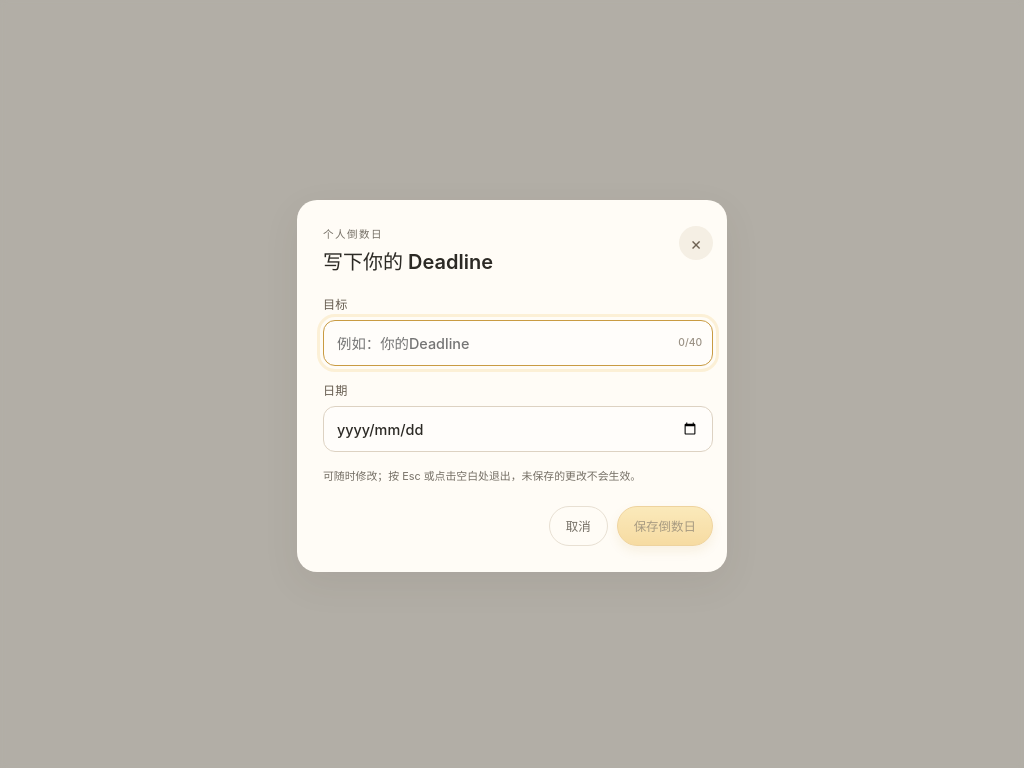
Test: DeadlineEditorModal › retains values when server-confirmed saving fails
The width and height of the screenshot is (1024, 768).
Type "法考" into the field labelled "目标 0/40" at [518, 343], box [323,320,713,366]
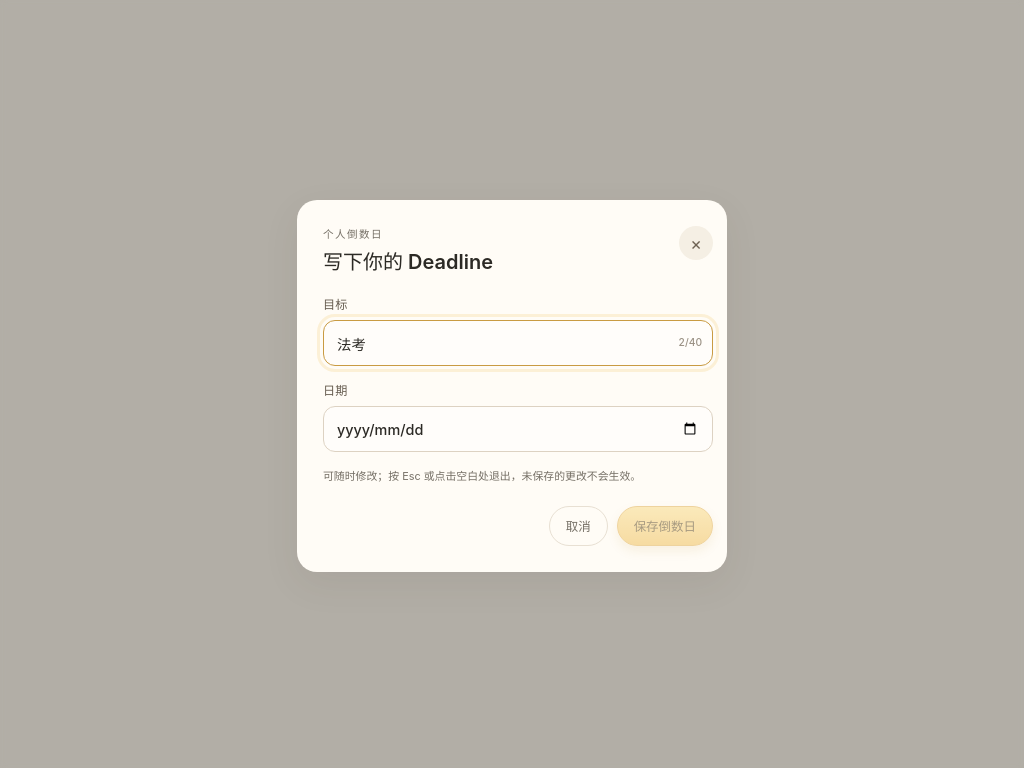
Type "2099-08-16" into the date field labelled "日期" at [518, 429], box [323,406,713,452]
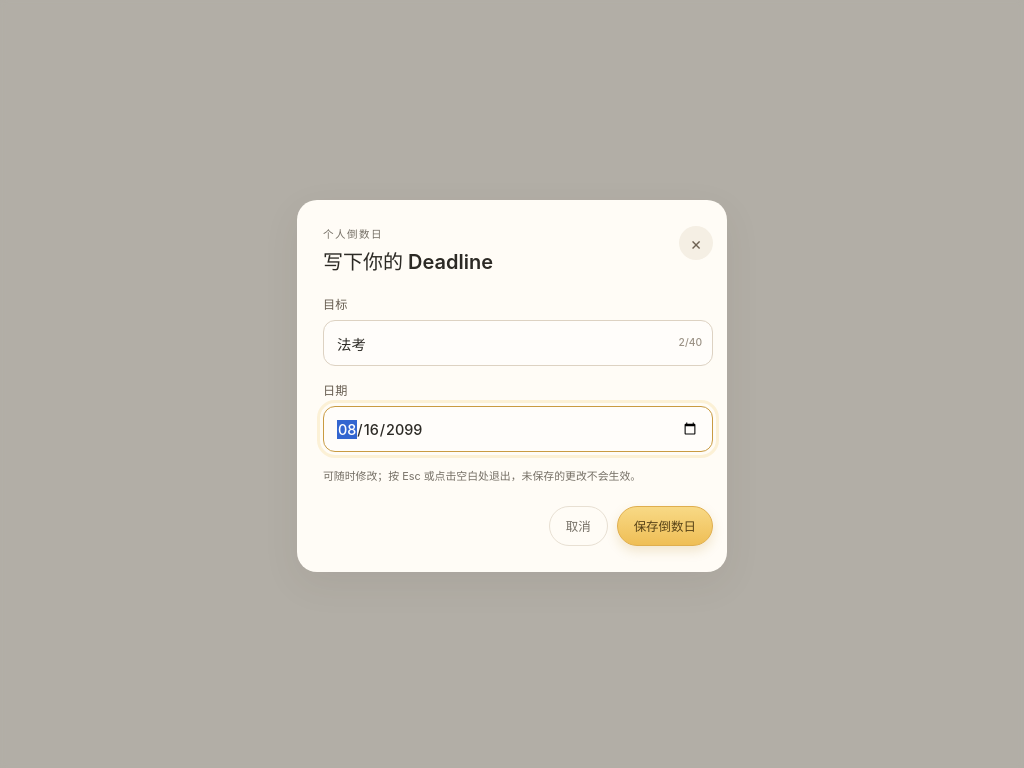
Click the button "保存倒数日" at [665, 526], box [617,506,713,546]
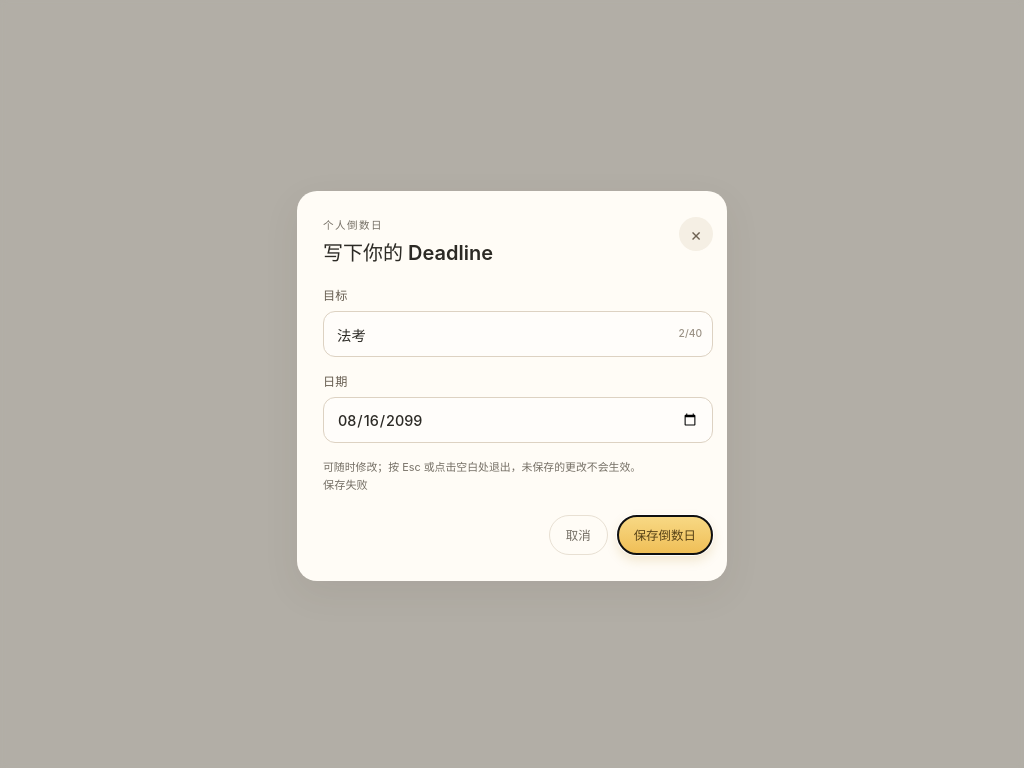
expect the message reads "保存失败": met, box [323,478,368,492]
